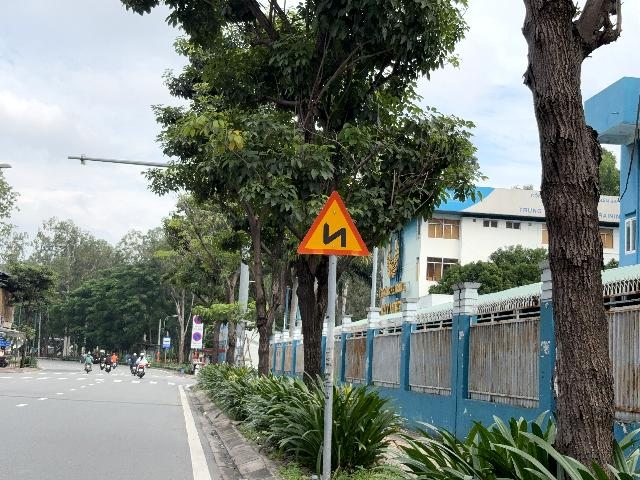nhieu-cho-ngoat-nguy-hiem-lien-tiep: (297, 190, 370, 257)
